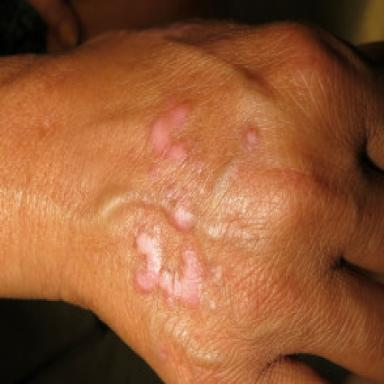Lupus-Erythematosus-Chronicus-Discoides: (134, 231, 204, 309), (149, 101, 192, 160), (246, 127, 258, 145)
